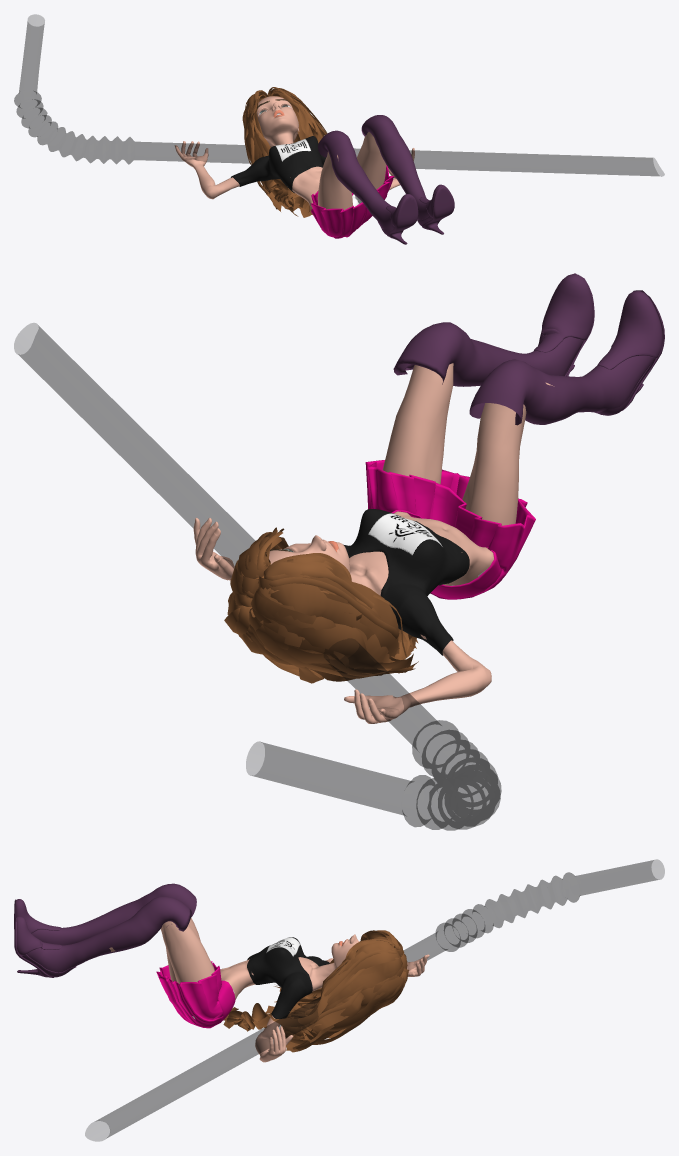
Rendered from asset.glb.
The picture shows the model from 3 angles, top to bottom: view 1: azimuth 30°, elevation 25°; view 2: azimuth 150°, elevation 25°; view 3: azimuth 270°, elevation 25°; orthographic projection. The views are drawn at different scales.
Parts seen in each view (by area): view 1: Straw, Hayden_body_export, Retopo_Low1.002, Retopo_Low1.003, Hair, Retopo_Imogen t-shirt.001, Pleated Skirt; view 2: Straw, Hayden_body_export, Hair, Retopo_Low1.002, Retopo_Low1.003, Retopo_Imogen t-shirt.001, Pleated Skirt; view 3: Straw, Hair, Retopo_Low1.003, Hayden_body_export, Retopo_Imogen t-shirt.001, Retopo_Low1.002, Pleated Skirt.
Part boxes in pixels (bbox=[...]): Straw: bbox=[14, 14, 664, 176]; Hayden_body_export: bbox=[175, 96, 414, 209]; Retopo_Low1.002: bbox=[318, 130, 418, 244]; Retopo_Low1.003: bbox=[361, 115, 454, 234]; Hair: bbox=[242, 87, 327, 217]; Retopo_Imogen t-shirt.001: bbox=[230, 136, 326, 193]; Pleated Skirt: bbox=[311, 165, 394, 238]; Straw: bbox=[14, 323, 501, 830]; Hayden_body_export: bbox=[193, 363, 554, 723]; Hair: bbox=[224, 527, 418, 683]; Retopo_Low1.002: bbox=[469, 290, 664, 425]; Retopo_Low1.003: bbox=[393, 273, 594, 386]; Retopo_Imogen t-shirt.001: bbox=[343, 509, 469, 655]; Pleated Skirt: bbox=[365, 460, 535, 599]; Straw: bbox=[85, 859, 664, 1141]; Hair: bbox=[223, 930, 408, 1052]; Retopo_Low1.003: bbox=[14, 896, 191, 977]; Hayden_body_export: bbox=[109, 918, 429, 1062]; Retopo_Imogen t-shirt.001: bbox=[247, 937, 329, 1018]; Retopo_Low1.002: bbox=[14, 883, 196, 945]; Pleated Skirt: bbox=[156, 961, 235, 1028].
Bounding box in the file's own units: 2.25 × 0.668 × 2.6.
Materials: 11 (2 with a texture image).
